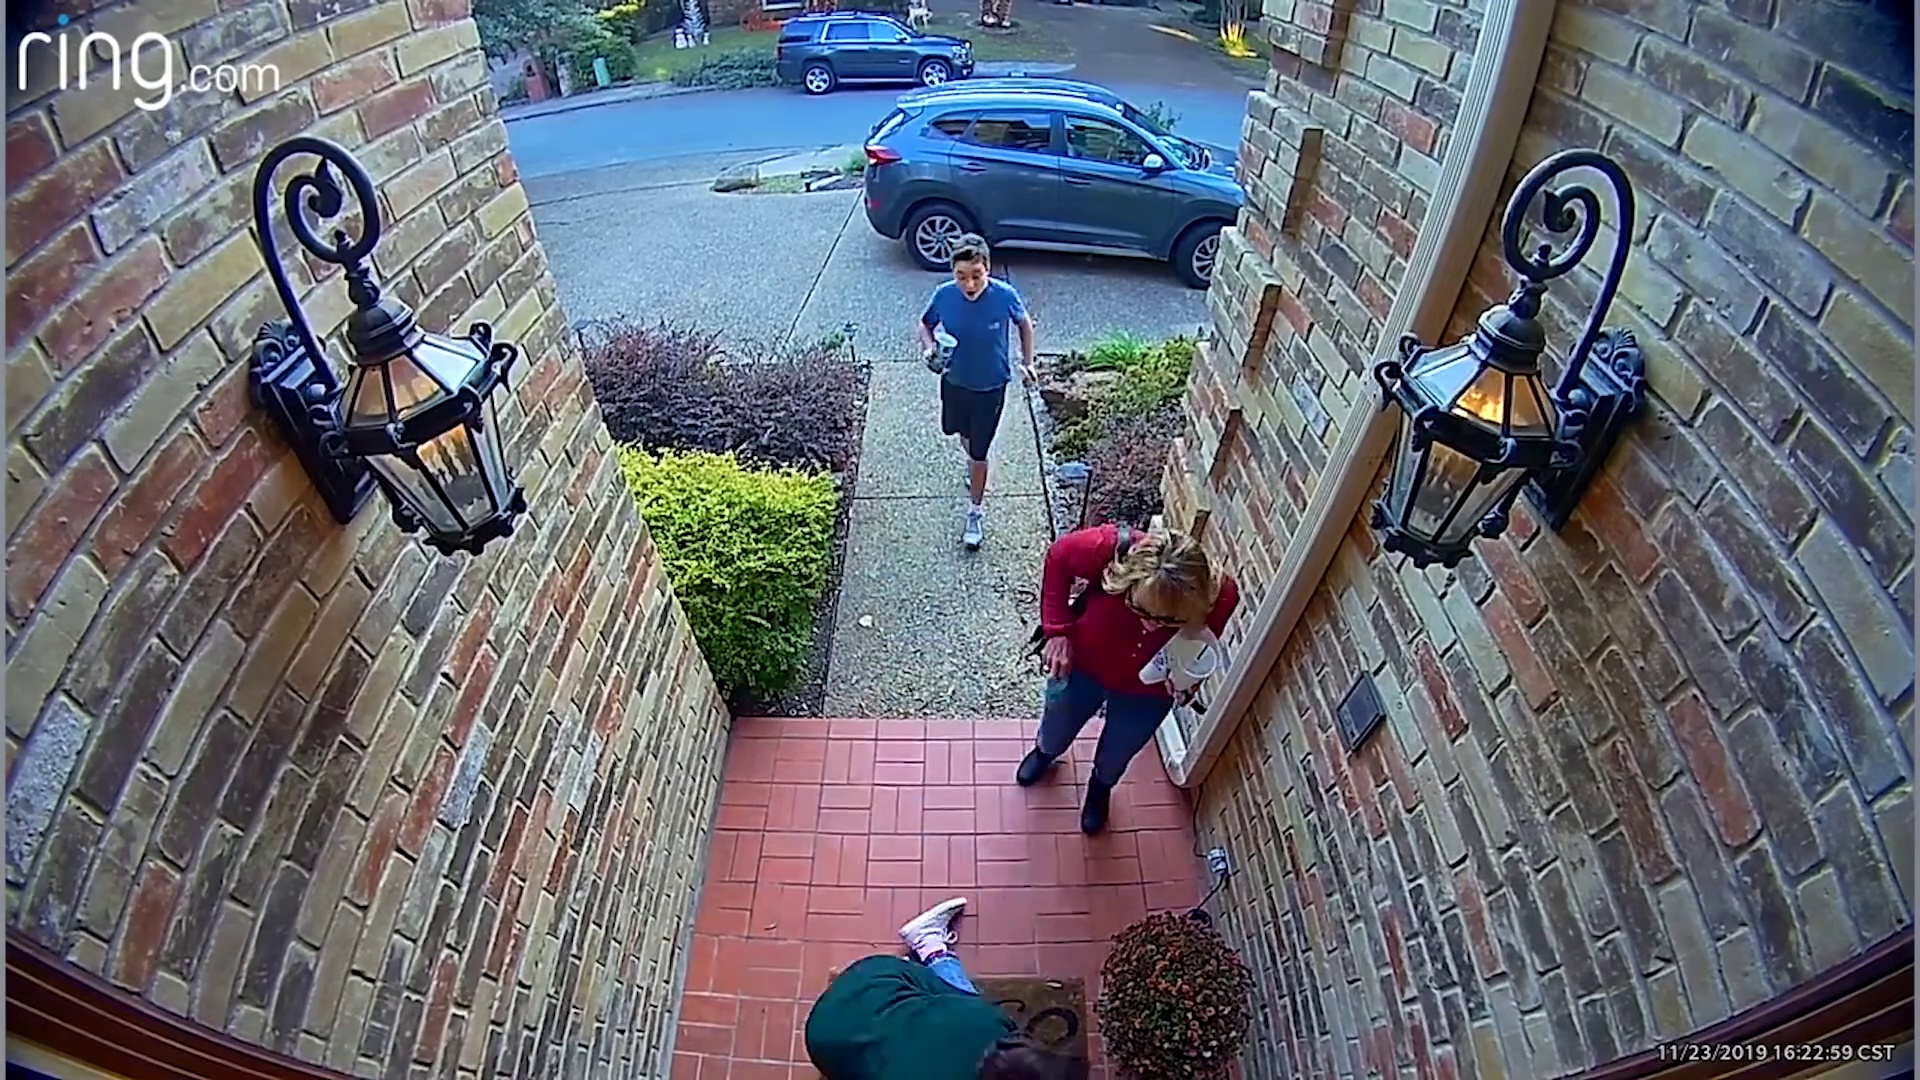face: (952, 261, 992, 304)
